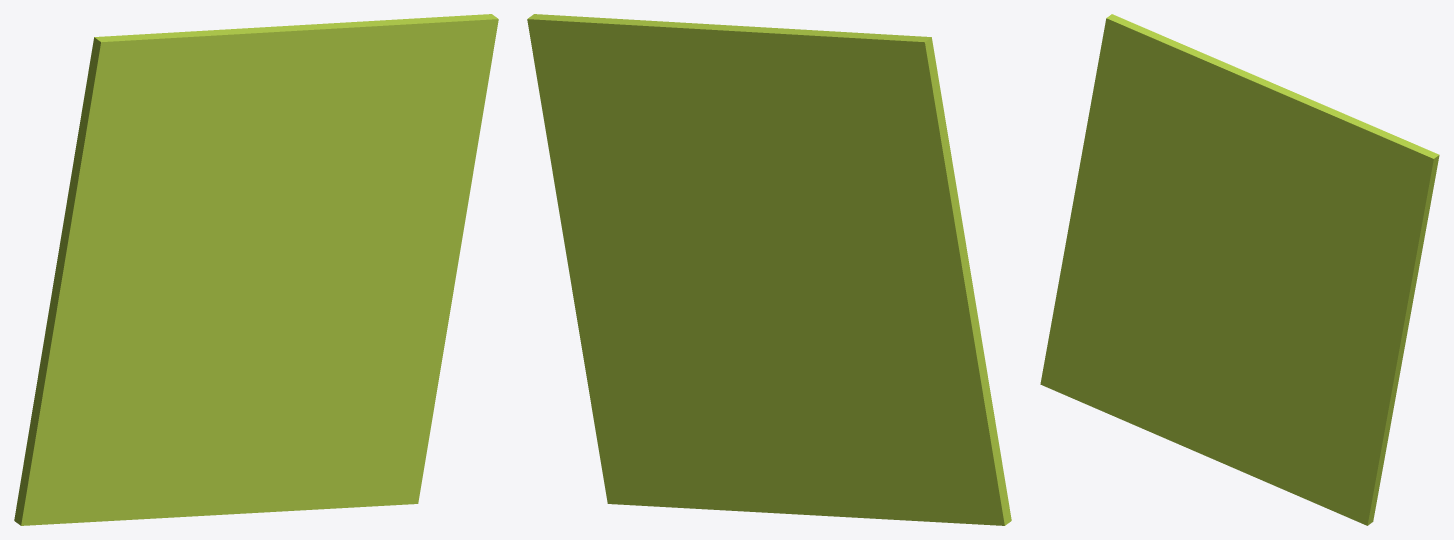
The picture shows the model from 3 angles, left to right: view 1: azimuth 30°, elevation 25°; view 2: azimuth 150°, elevation 25°; view 3: azimuth 330°, elevation 25°; orthographic projection. The views are drawn at different scales.
Visible parts, largest first — view 1: osm-way27917482-F3; view 2: osm-way27917482-F3; view 3: osm-way27917482-F3.
Part boxes in pixels (x1,y1,x2,y2): osm-way27917482-F3: [14, 14, 498, 525]; osm-way27917482-F3: [527, 14, 1011, 525]; osm-way27917482-F3: [1040, 14, 1439, 525].
Bounding box in the file's own units: 5.94 × 6.4 × 0.15.
